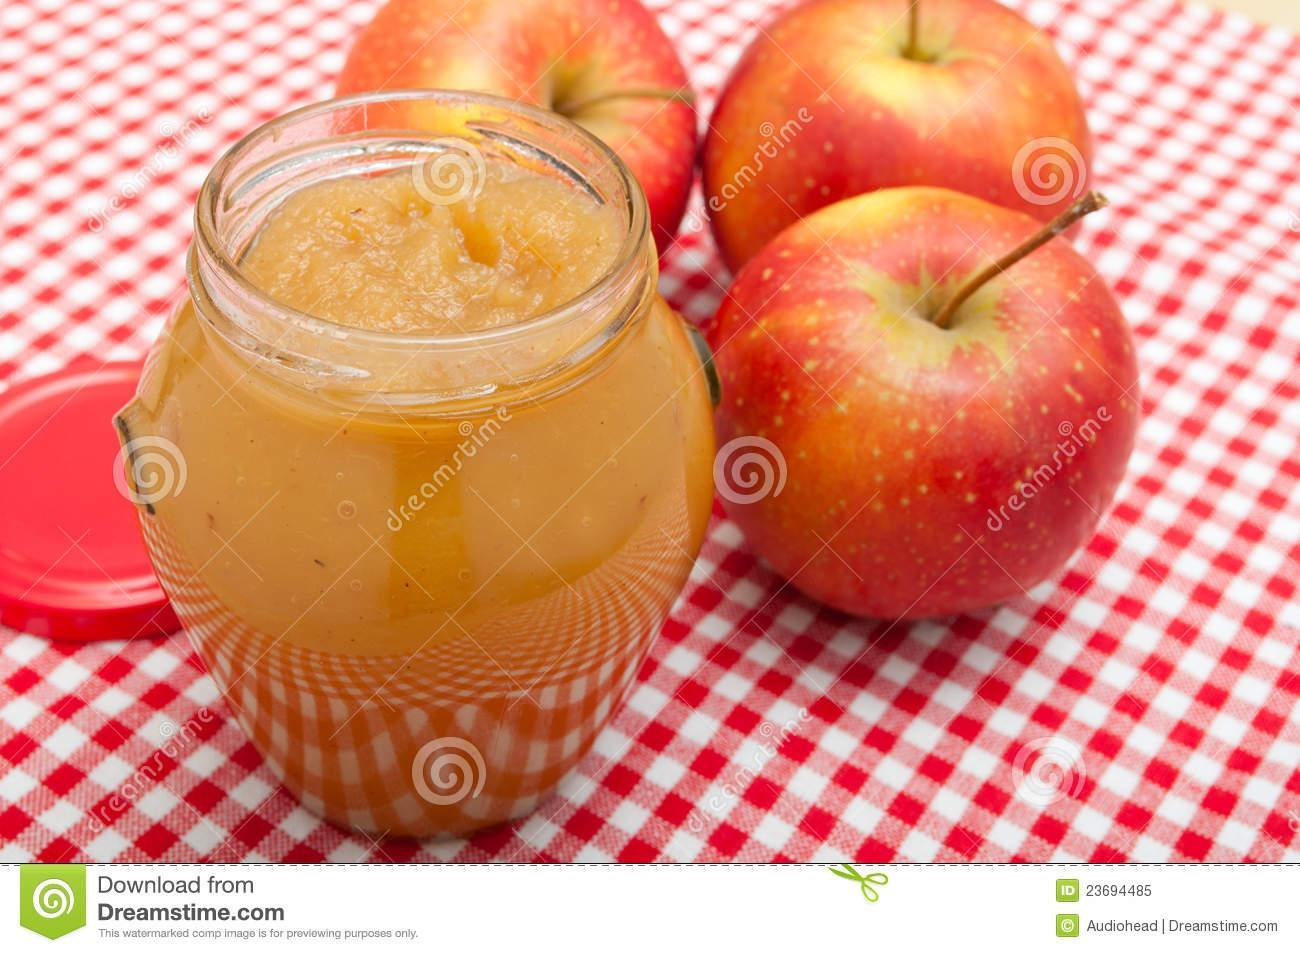apple: (700, 190, 1144, 627), (698, 6, 1092, 283), (329, 4, 707, 253)
